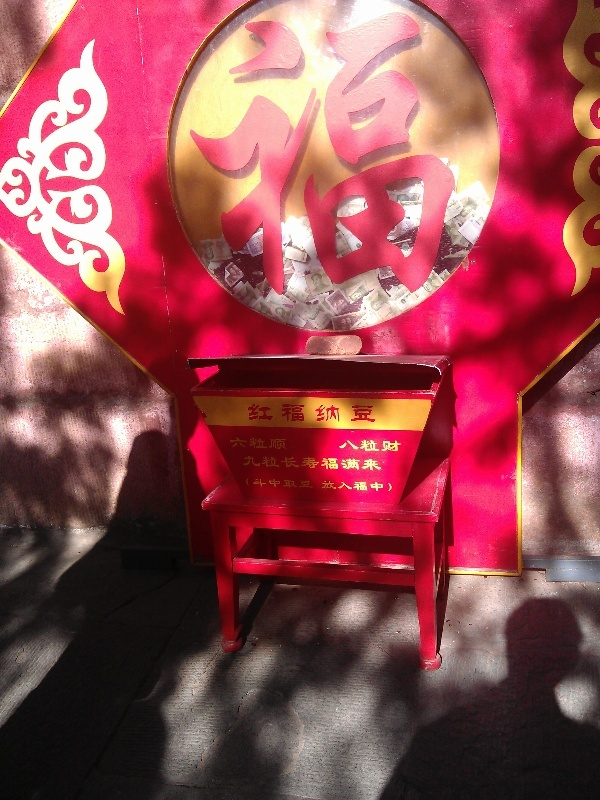text: (193, 11, 208, 300), (209, 11, 224, 300), (225, 11, 240, 300), (241, 11, 256, 300), (257, 11, 272, 300), (273, 11, 288, 300), (289, 11, 304, 300), (305, 11, 320, 300), (321, 11, 336, 300), (337, 11, 352, 300), (353, 11, 368, 300), (369, 11, 384, 300), (385, 11, 400, 300), (401, 11, 416, 300), (417, 11, 432, 300), (433, 11, 448, 300), (449, 11, 457, 300), (188, 11, 192, 300), (257, 403, 272, 424), (273, 403, 288, 424), (289, 403, 304, 424), (305, 403, 320, 424), (321, 403, 336, 424), (337, 403, 352, 424), (353, 403, 368, 424), (257, 453, 272, 473), (273, 453, 288, 473), (289, 453, 304, 473), (305, 453, 320, 473), (321, 453, 336, 473), (337, 453, 352, 473), (353, 453, 368, 473), (369, 453, 384, 473), (242, 453, 256, 473), (273, 435, 289, 451), (241, 435, 256, 451), (257, 435, 272, 451), (353, 438, 368, 453), (369, 438, 384, 453), (385, 438, 400, 453), (369, 403, 379, 424), (339, 438, 352, 453), (257, 477, 272, 490), (273, 477, 288, 490), (289, 477, 304, 490), (337, 480, 352, 493), (353, 480, 368, 493), (369, 480, 384, 493), (322, 480, 336, 493), (229, 435, 240, 451), (248, 403, 256, 424), (246, 477, 256, 490), (305, 477, 314, 490), (385, 480, 393, 493), (401, 438, 404, 453)
